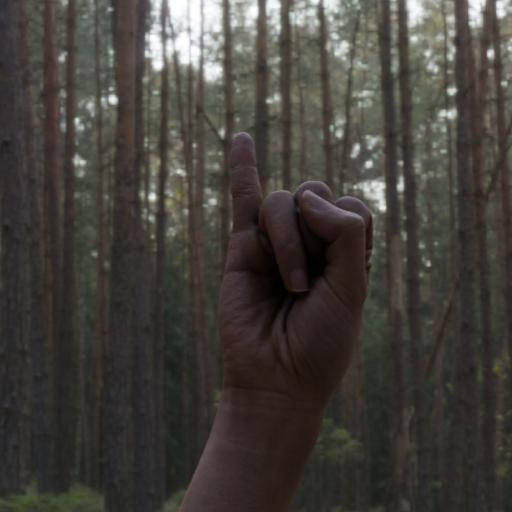I: (164, 121, 384, 497)
